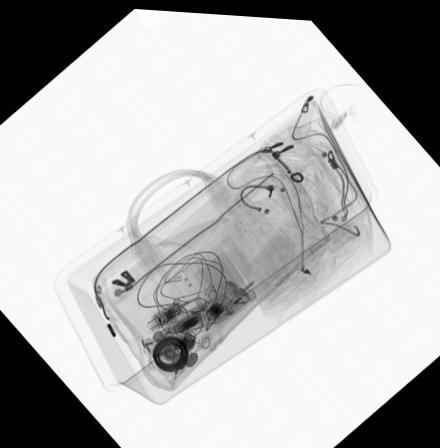Lighter: (211, 284, 257, 325)
